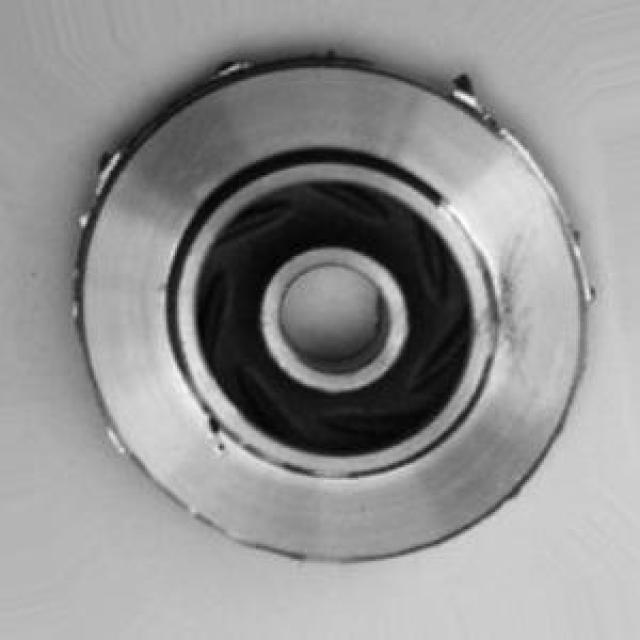Defect: (449, 66, 488, 118), (89, 144, 129, 185)
